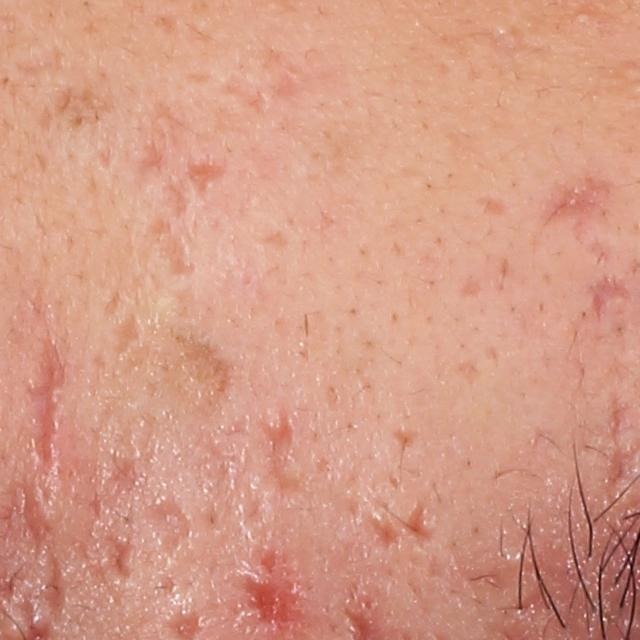atrophic_scar: (216, 49, 306, 116), (31, 324, 64, 480), (535, 173, 620, 231), (256, 408, 310, 495), (16, 477, 63, 552), (144, 495, 191, 557), (8, 41, 68, 82), (588, 275, 635, 322), (400, 495, 438, 547), (155, 226, 195, 275), (41, 555, 68, 627), (107, 308, 145, 357), (189, 163, 230, 202), (107, 534, 136, 584), (369, 512, 399, 556), (452, 358, 485, 388), (259, 225, 288, 255), (473, 195, 514, 215), (389, 426, 420, 450), (459, 273, 484, 298)
comedo: (574, 6, 596, 25)
